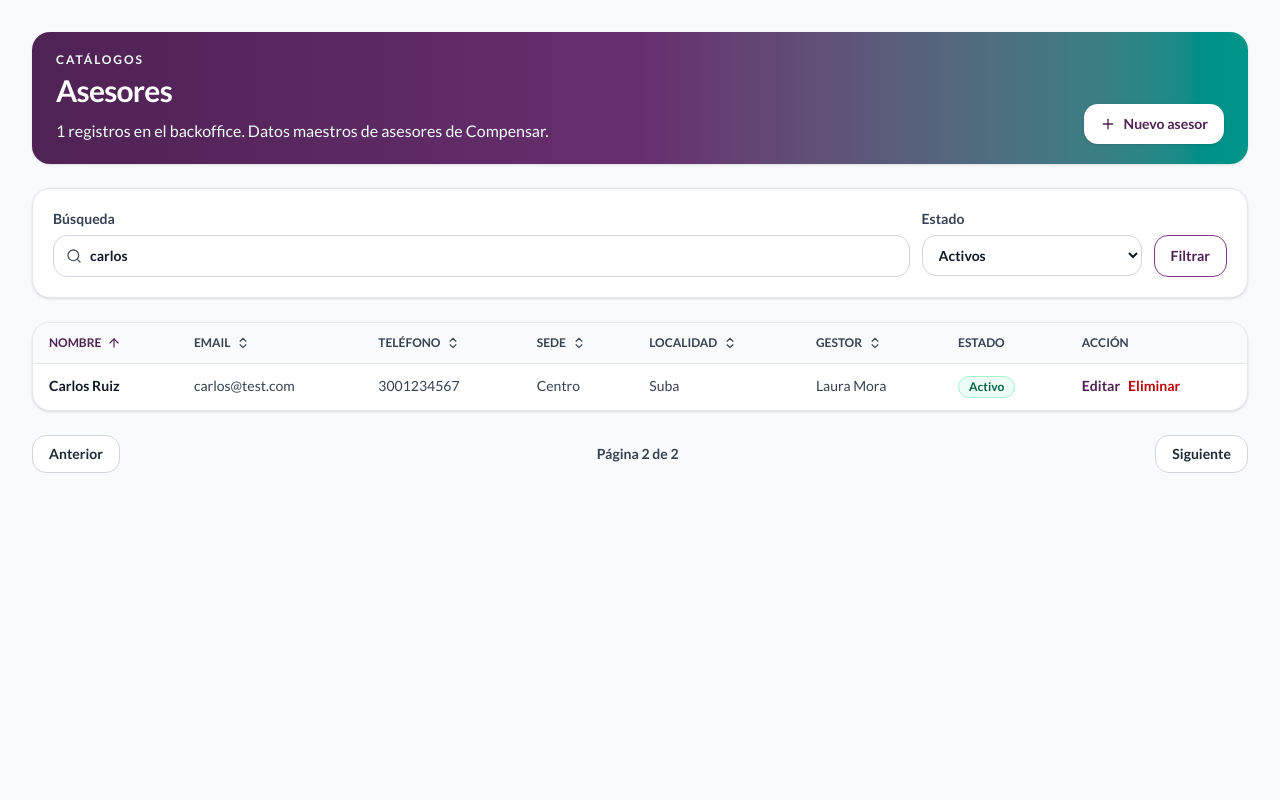
Test: CatalogosListView › renders asesores columns, sorting links and create action
Expected: the heading "Asesores" is shown, [56,72,172,108]
Expected: the button "Nuevo asesor" is shown, [1084,104,1224,144]
Click the button "Editar" at (1101,386), box [1082,376,1120,396]
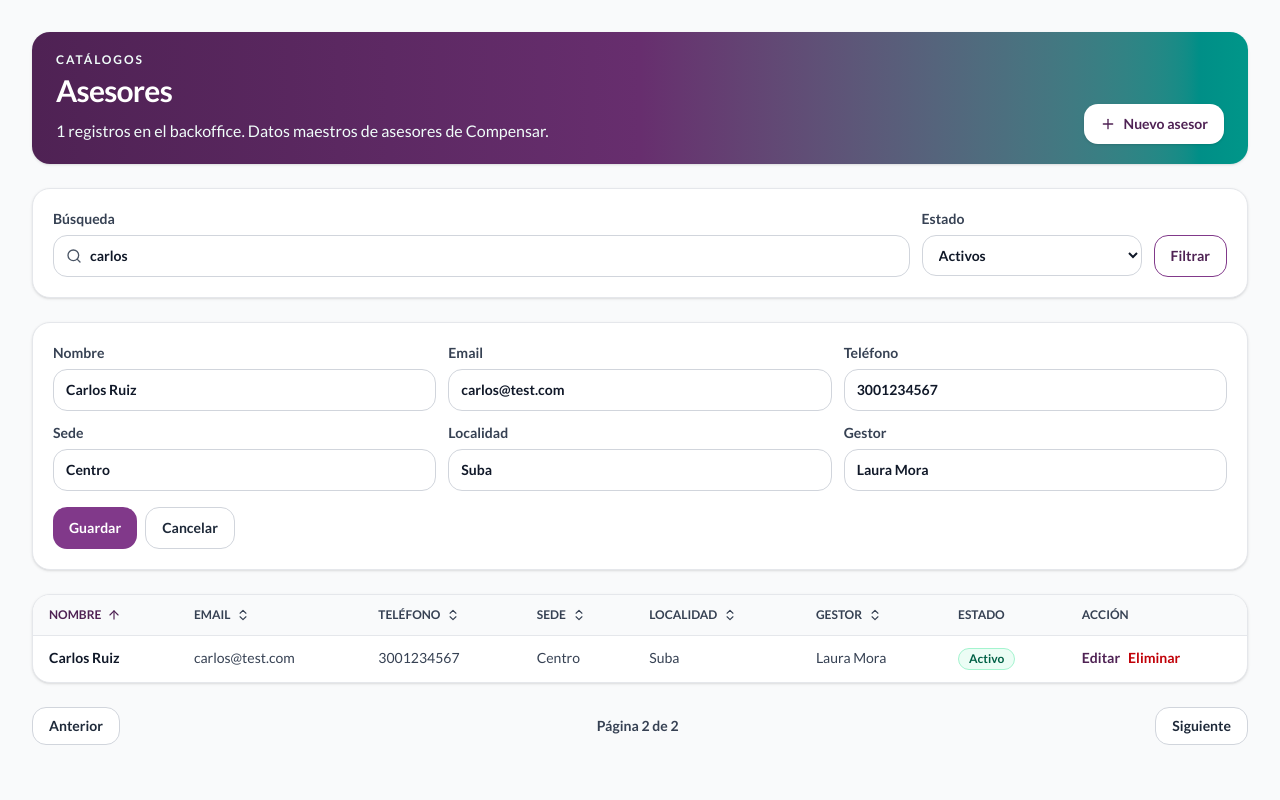
Now the field showing "Carlos Ruiz" is shown, box [53,368,436,410]
Now the field showing "Centro" is shown, box [53,448,436,490]
